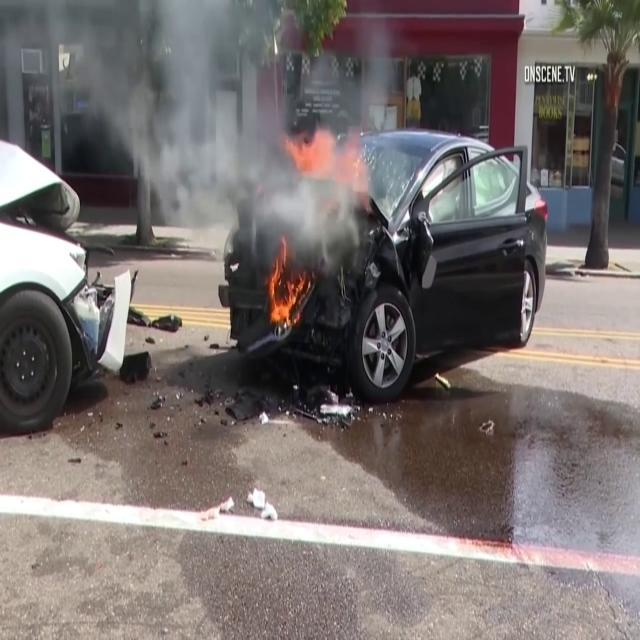Fire: (261, 241, 305, 335)
Smoke: (44, 0, 378, 256)
